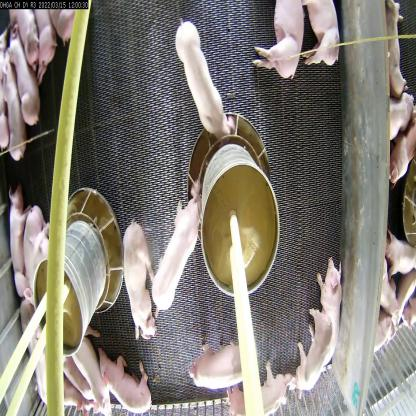Pig: (164, 16, 236, 146), (148, 194, 212, 320), (292, 261, 346, 396), (248, 0, 312, 86), (118, 220, 161, 344), (96, 342, 158, 415), (3, 33, 42, 129), (3, 184, 32, 304), (23, 203, 57, 298), (198, 330, 248, 392), (296, 0, 341, 68), (73, 334, 110, 415), (0, 51, 24, 160), (235, 369, 290, 416), (34, 4, 60, 73)
